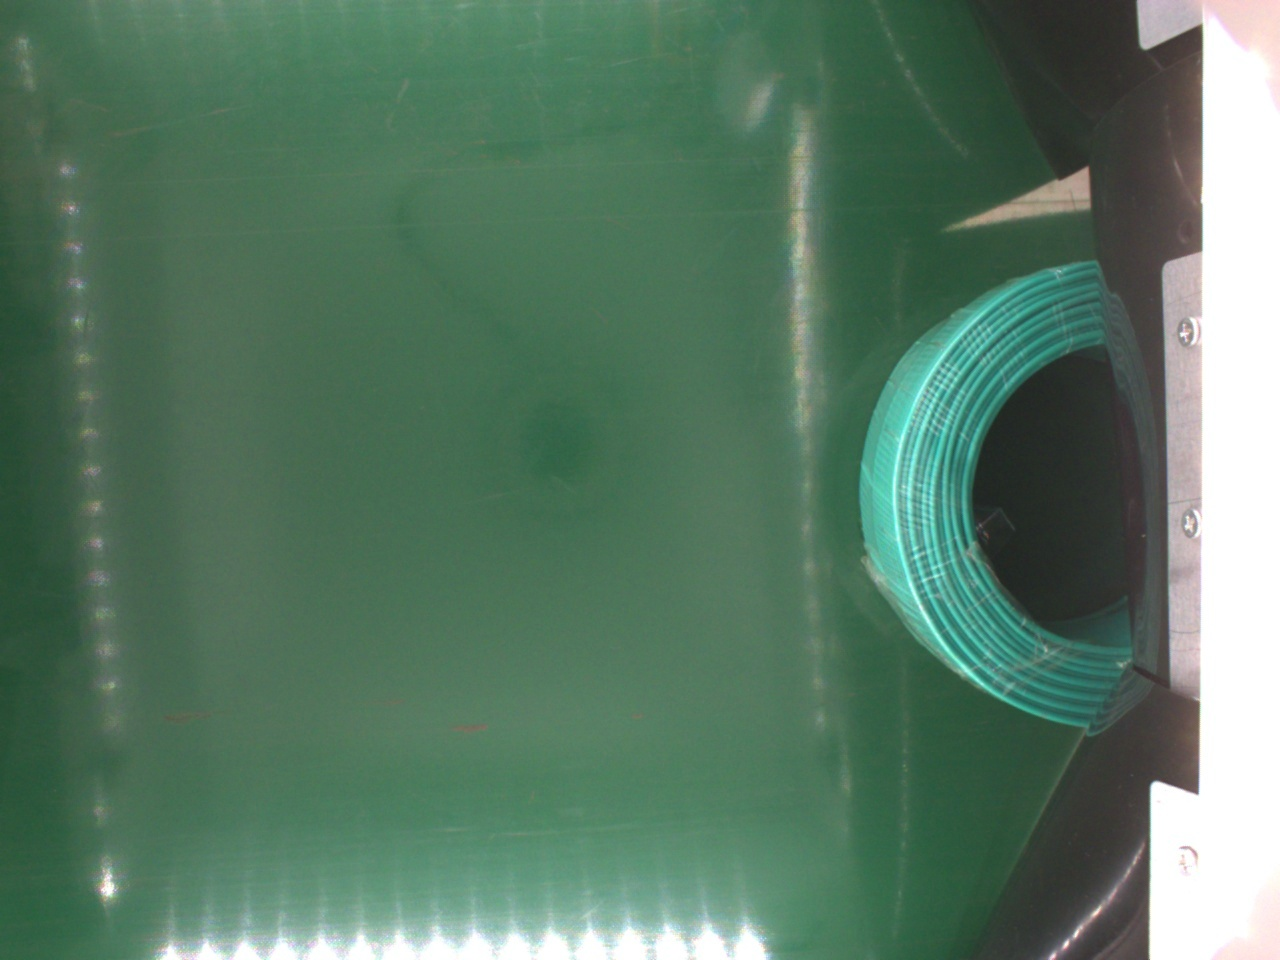green: (858, 254, 1131, 725)
